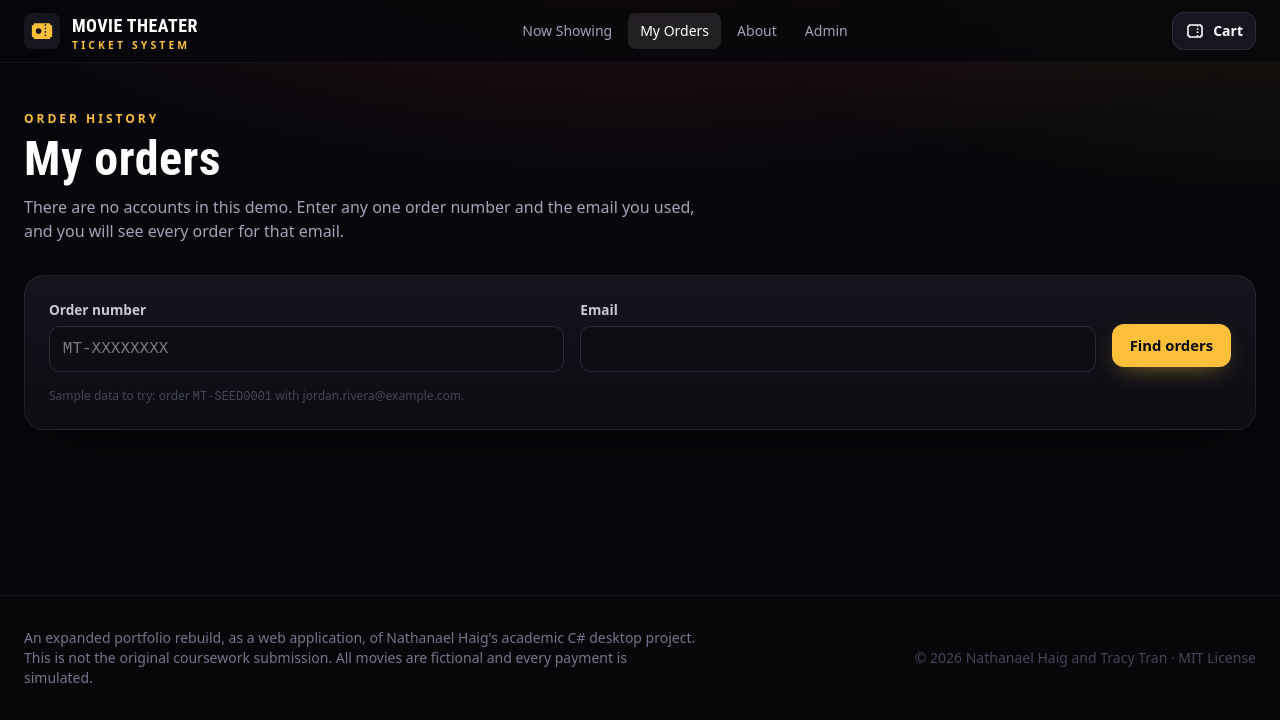
Test case: OrdersPage › shows the server message when nothing matches
Type "MT-SEED0001" into the field labelled "Order number" at (307, 349), box left=49, top=326, right=564, bottom=372
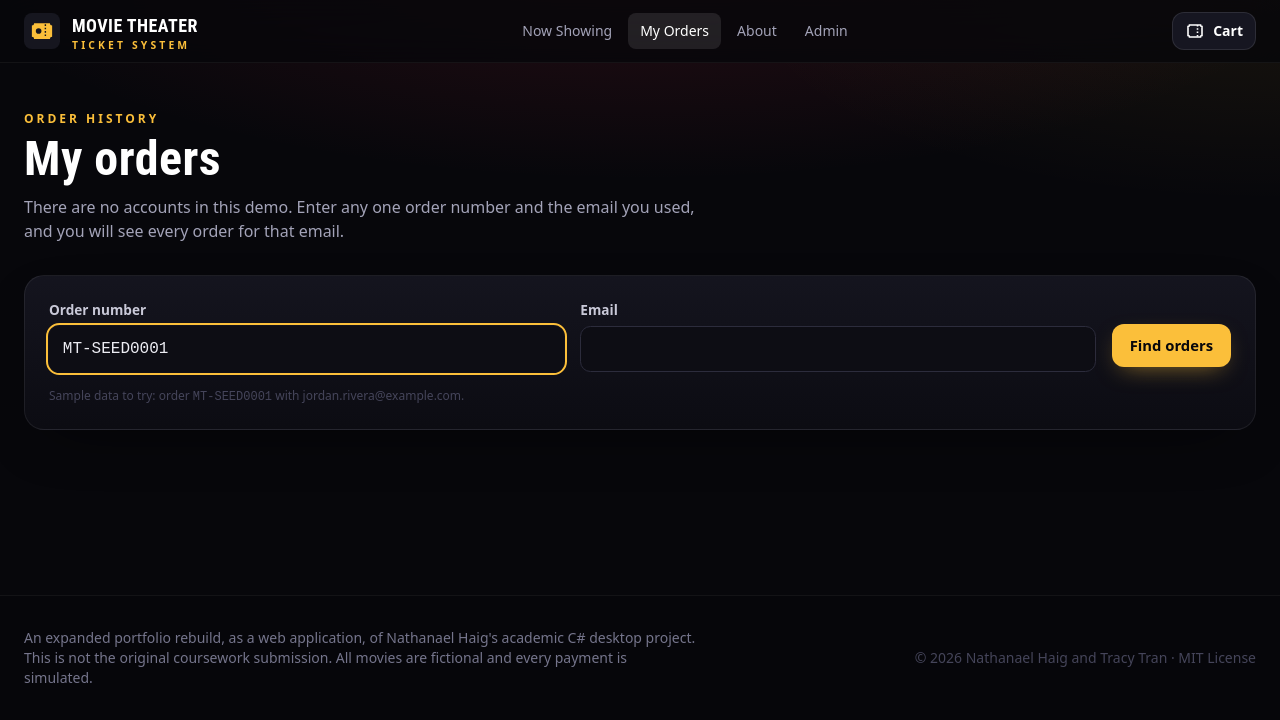
Type "wrong@example.com" into the field labelled "Email" at (838, 349), box left=580, top=326, right=1096, bottom=372
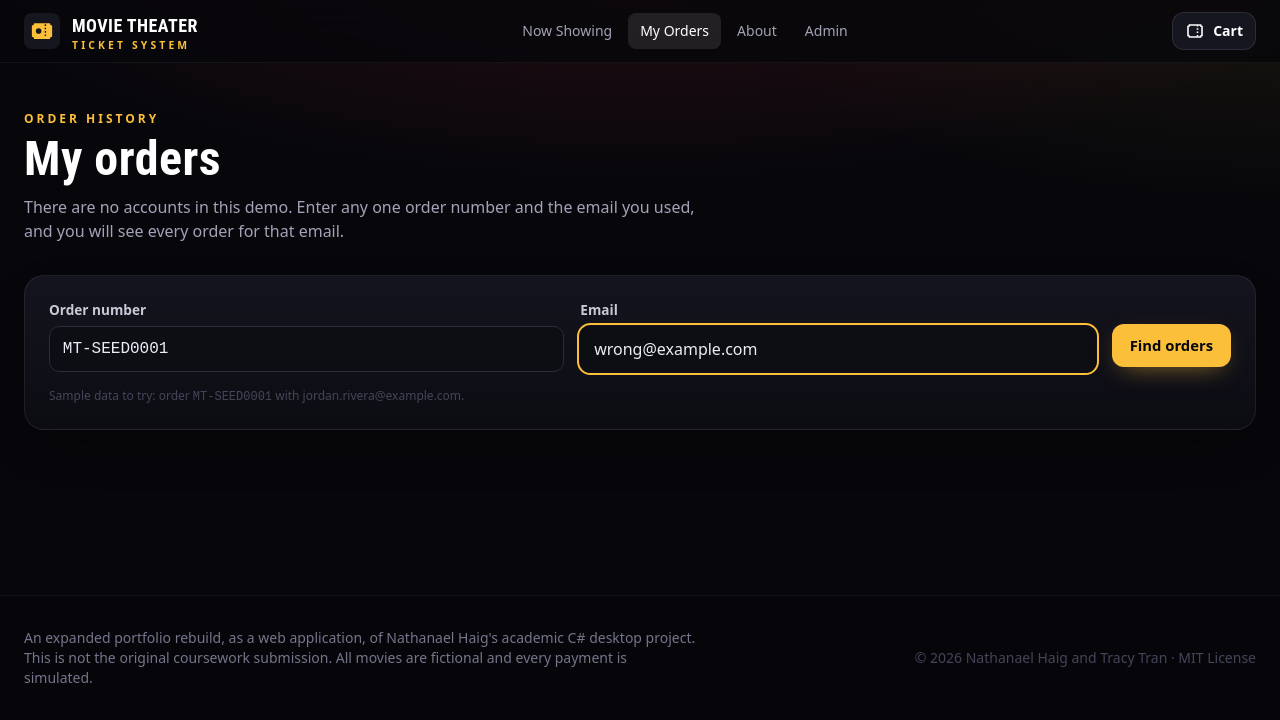
Click the button "Find orders" at (1171, 346), box left=1112, top=324, right=1231, bottom=367
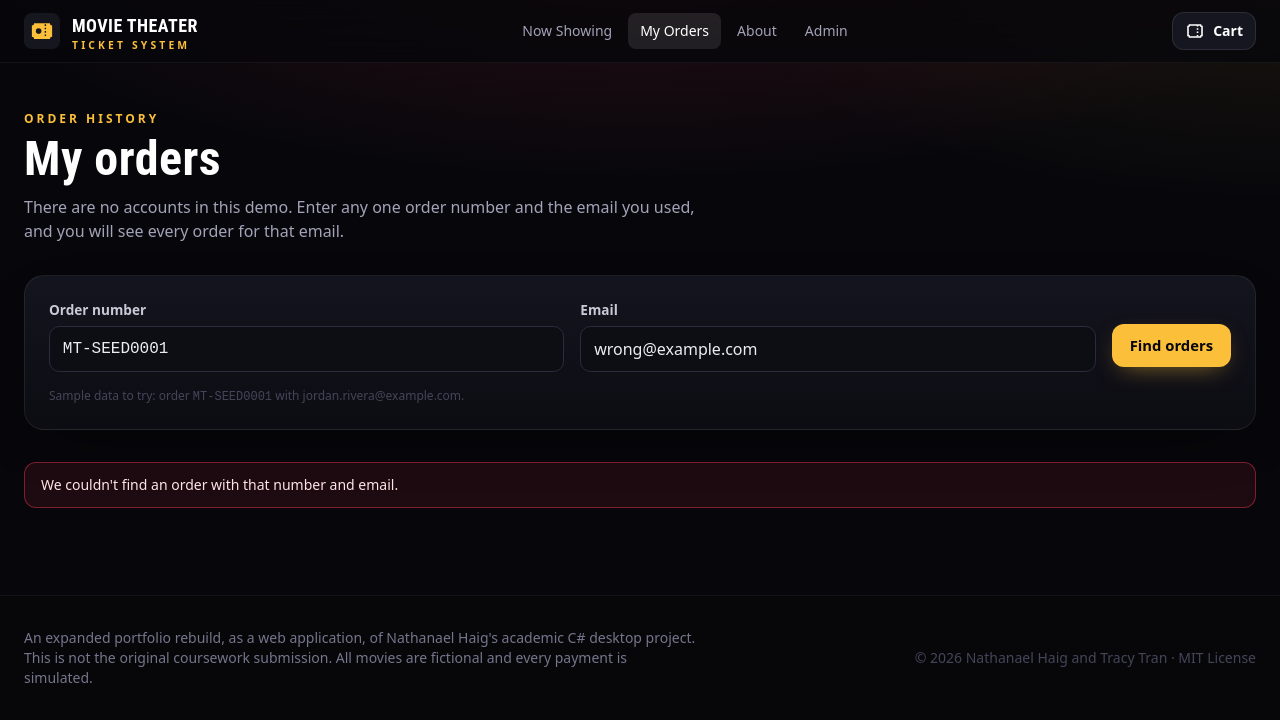
Result: the message reads "We couldn't find an order with that number and email." at left=41, top=475, right=398, bottom=494
